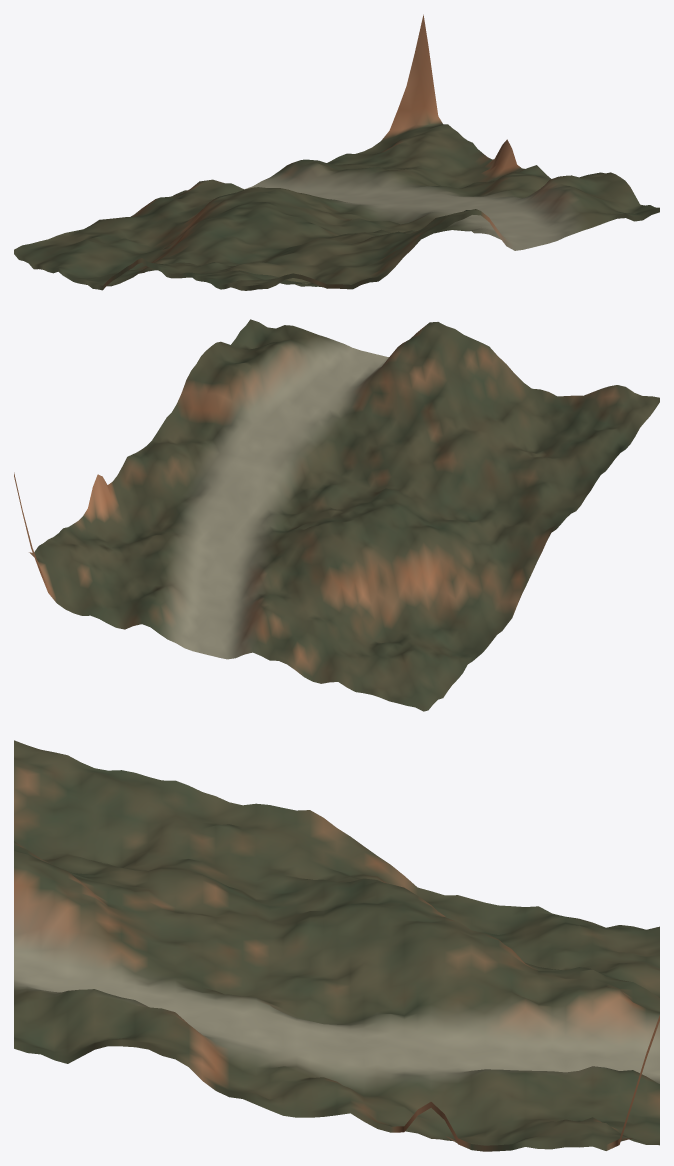
Rendered from terrain-039.glb.
The picture shows the model from 3 angles, top to bottom: view 1: azimuth 30°, elevation 25°; view 2: azimuth 150°, elevation 25°; view 3: azimuth 270°, elevation 25°; orthographic projection. The views are drawn at different scales.
Visible parts, largest first — view 1: terrain-039; view 2: terrain-039; view 3: terrain-039.
Part boxes in pixels (x1,y1,x2,y2): terrain-039: (14,14,659,290); terrain-039: (14,319,659,711); terrain-039: (14,740,659,1151).
Bounding box in the file's own units: 384 × 148 × 384.
